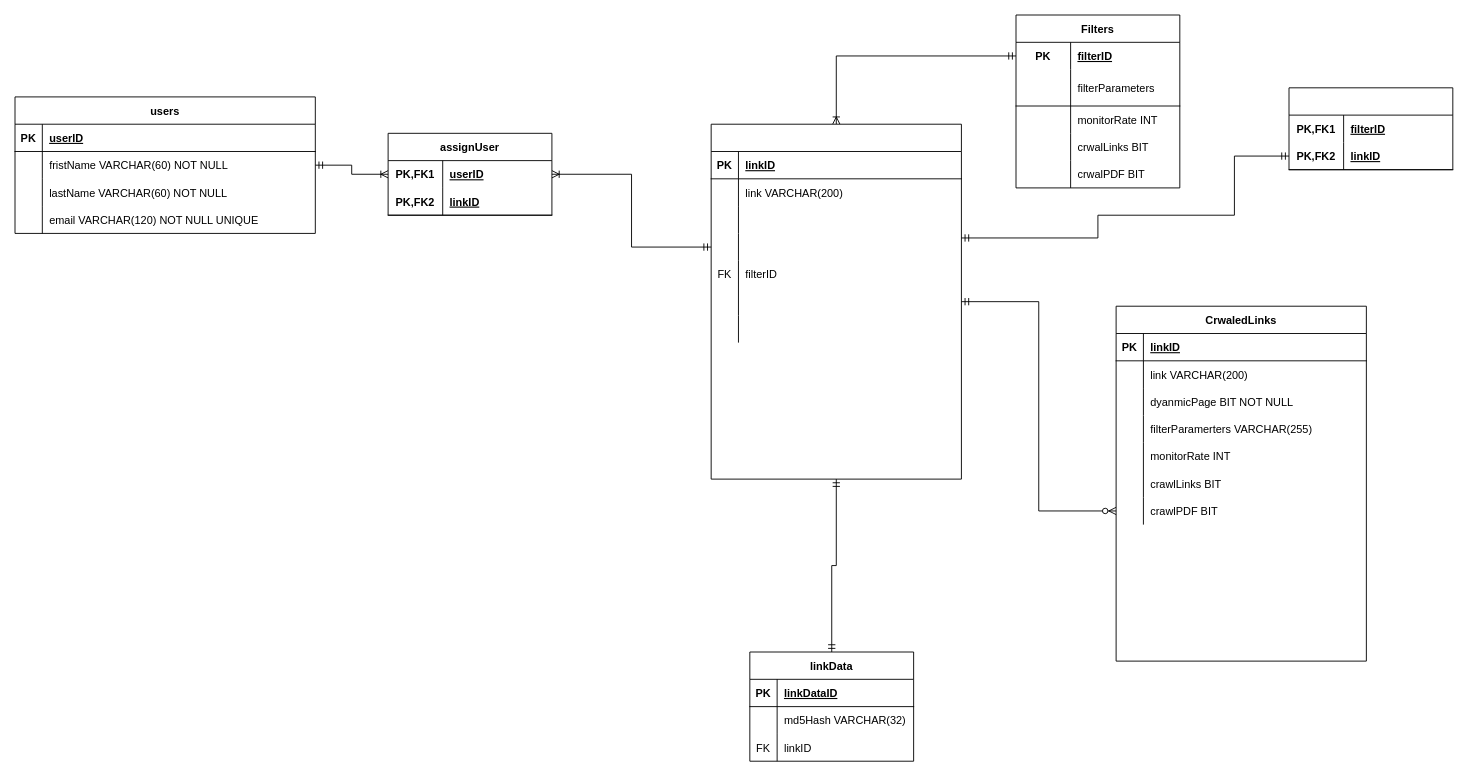
The diagram is 1468 pixels wide and 776 high, and some of its shapes have lost their labels. Here are the shapes that lost their labels. From the top down, the box of each, then its label:
(1288, 87, 1453, 170): crwaledFilters
(710, 123, 961, 479): links
